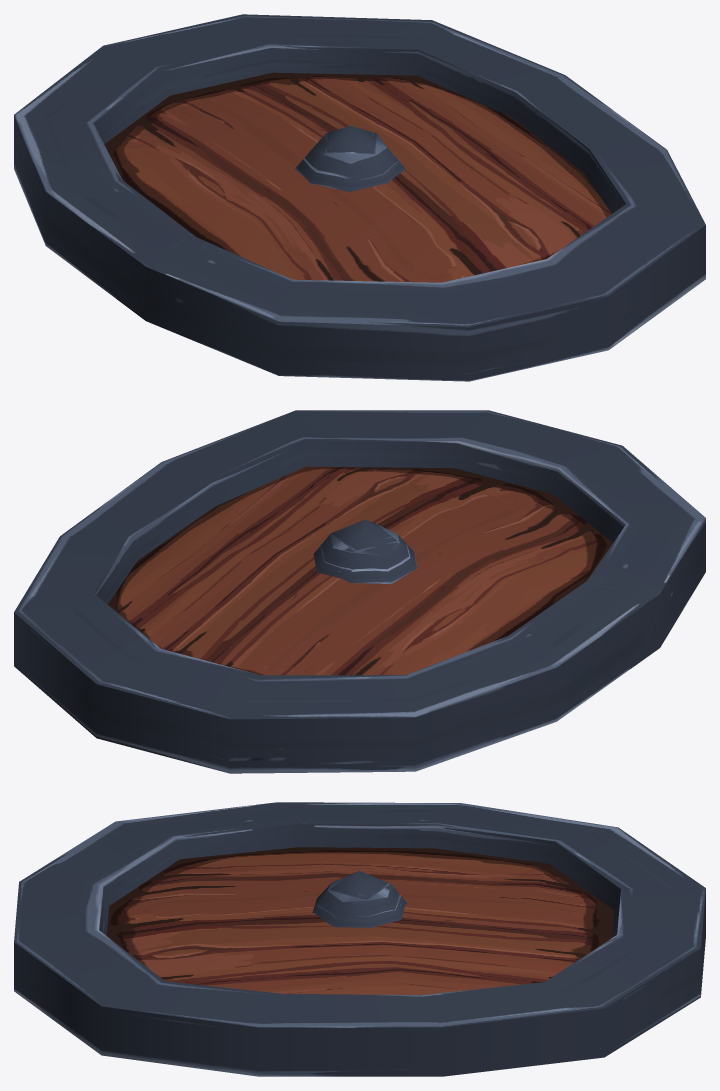
Rendered from SM_PROP_weapon_shield_interior_02.fbx.
3 renders of one model, top to bottom at view 1: azimuth 30°, elevation 25°; view 2: azimuth 150°, elevation 25°; view 3: azimuth 270°, elevation 25°, orthographic. The views are drawn at different scales.
Parts seen in each view (by area): view 1: SM_PROP_weapon_shield_interior_02; view 2: SM_PROP_weapon_shield_interior_02; view 3: SM_PROP_weapon_shield_interior_02.
Part boxes in pixels (x1,y1,x2,y2): SM_PROP_weapon_shield_interior_02: (14, 14, 705, 381); SM_PROP_weapon_shield_interior_02: (14, 410, 705, 773); SM_PROP_weapon_shield_interior_02: (14, 802, 705, 1076).
Size of the model in its own units: 50.69 by 10.2 by 65.79.
